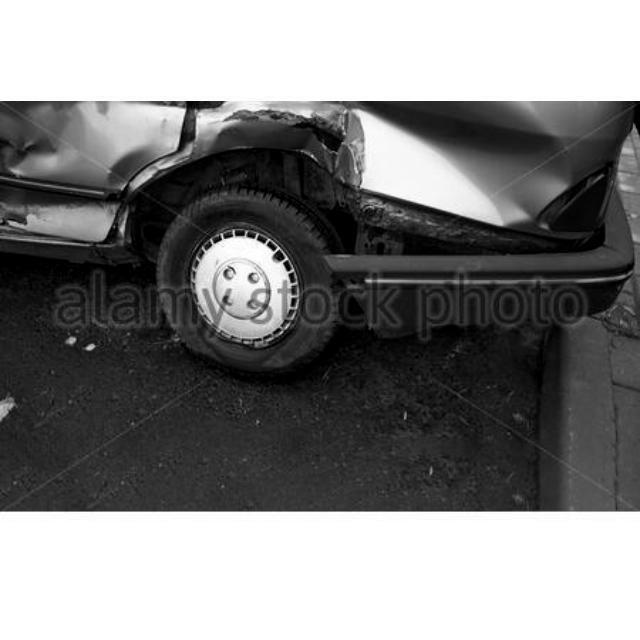doorouter-dent: (1, 101, 178, 248)
quaterpanel-dent: (191, 100, 535, 196)
